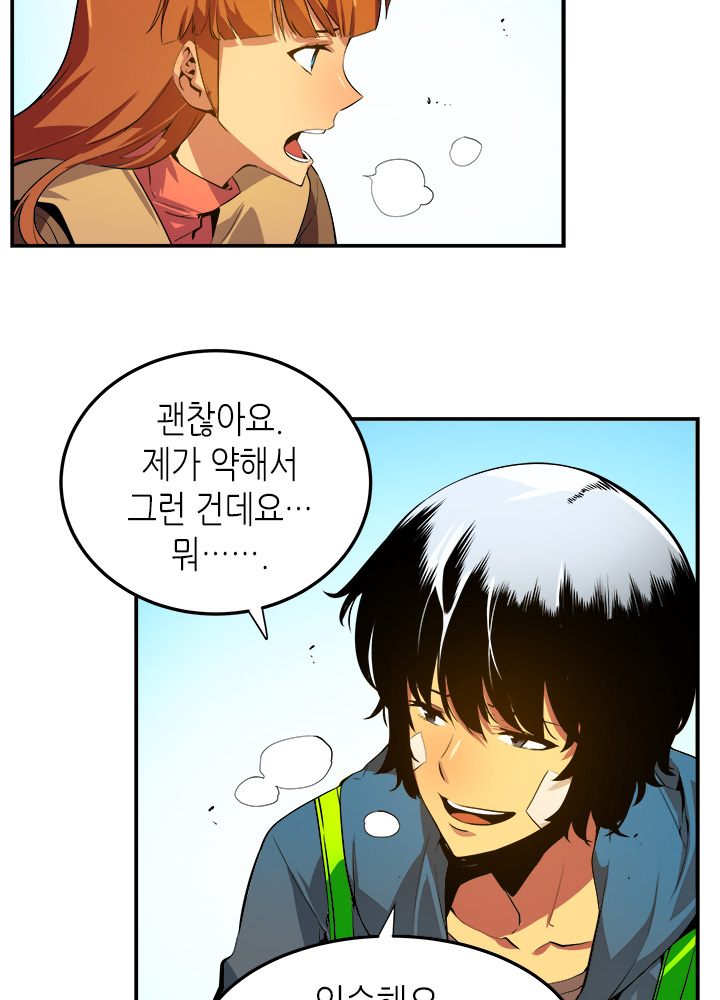dialog box: (27, 330, 412, 657), (177, 890, 599, 1000)
text: (101, 372, 336, 593), (290, 964, 466, 1000)
